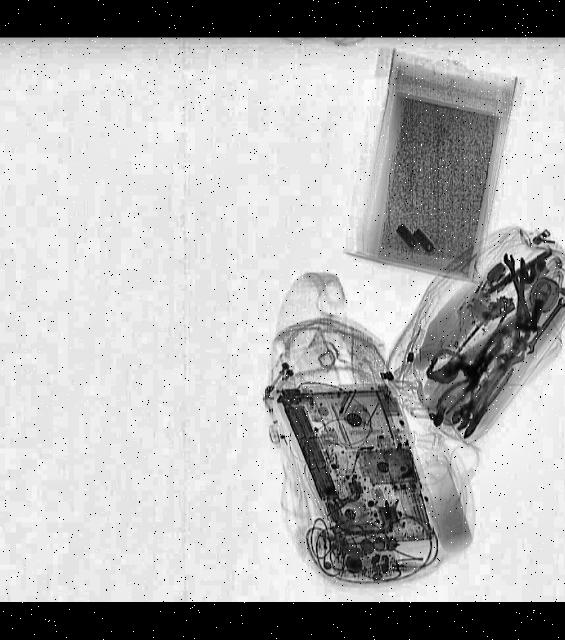Pliers: (433, 349, 498, 426)
Wrench: (517, 294, 565, 356), (500, 252, 532, 326)
